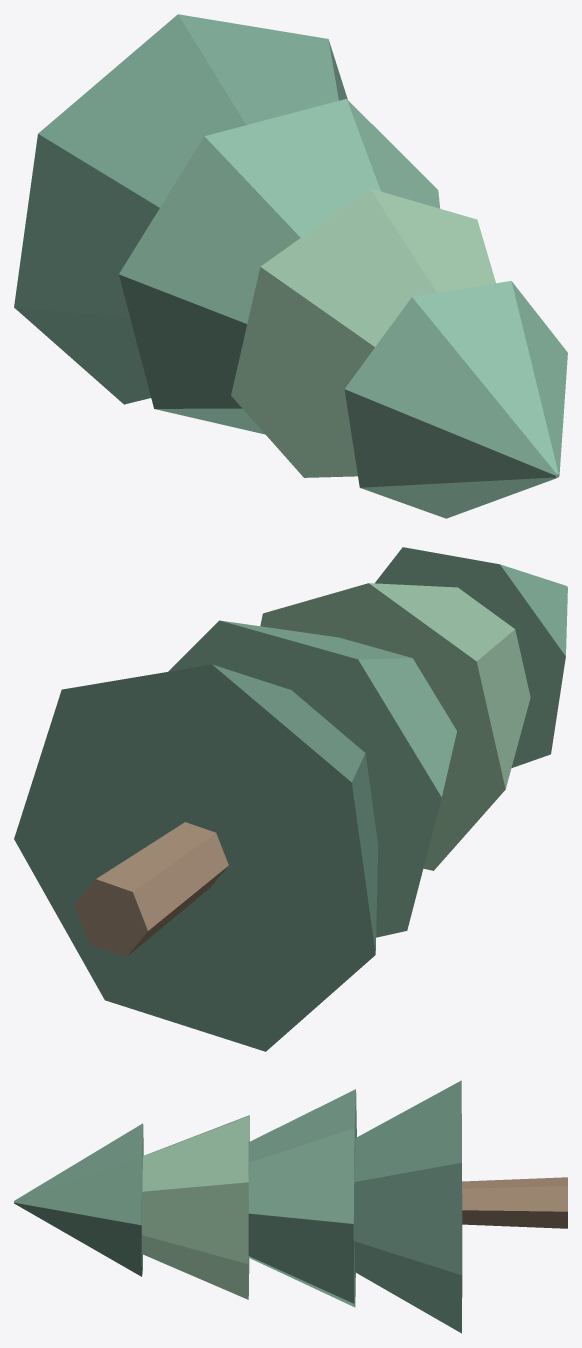
File: tree_pine_medium.glb
3 views of the same model, one above another, from view 1: azimuth 30°, elevation 25°; view 2: azimuth 150°, elevation 25°; view 3: azimuth 270°, elevation 25° (orthographic). The views are drawn at different scales.
Parts seen in each view (by area): view 1: tree_pine_medium_pine_mid, tree_pine_medium_pine_dark, tree_pine_medium_pine_light; view 2: tree_pine_medium_pine_dark, tree_pine_medium_pine_mid, tree_pine_medium_pine_light, tree_pine_medium_bark_dark; view 3: tree_pine_medium_pine_mid, tree_pine_medium_pine_dark, tree_pine_medium_pine_light, tree_pine_medium_bark_dark.
Boxes of the visible parts, x1,y1,x2,y2 form: tree_pine_medium_pine_mid: (119, 99, 567, 518); tree_pine_medium_pine_dark: (14, 14, 347, 404); tree_pine_medium_pine_light: (231, 188, 495, 477); tree_pine_medium_pine_dark: (14, 664, 378, 1051); tree_pine_medium_pine_mid: (168, 547, 567, 937); tree_pine_medium_pine_light: (260, 583, 530, 870); tree_pine_medium_bark_dark: (74, 822, 228, 957); tree_pine_medium_pine_mid: (14, 1089, 356, 1307); tree_pine_medium_pine_dark: (354, 1080, 462, 1333); tree_pine_medium_pine_light: (142, 1115, 249, 1299); tree_pine_medium_bark_dark: (462, 1177, 567, 1228).
Size of the model in its own units: 2.92 by 2.89 by 6.34.
